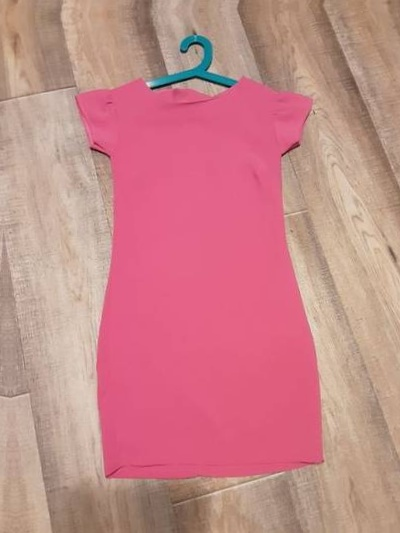Dress: (58, 51, 368, 501)
